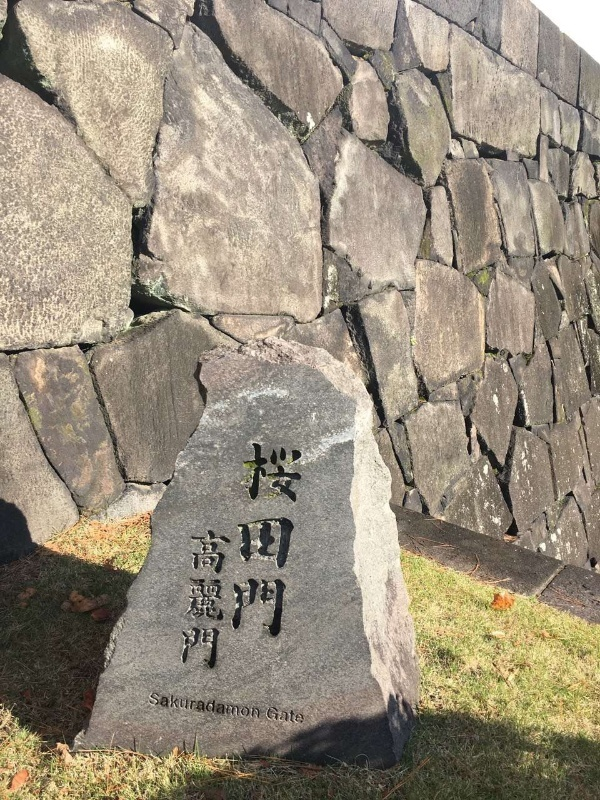text: (257, 444, 272, 640), (273, 444, 288, 640), (289, 444, 304, 640), (193, 530, 208, 668), (209, 530, 224, 668), (246, 444, 256, 640), (225, 530, 232, 668), (161, 692, 176, 721), (177, 692, 192, 721), (193, 692, 208, 721), (209, 692, 224, 721), (225, 692, 240, 721), (241, 692, 256, 721), (273, 707, 288, 725), (289, 707, 304, 725), (151, 692, 160, 721), (257, 692, 261, 721), (267, 707, 272, 725)
